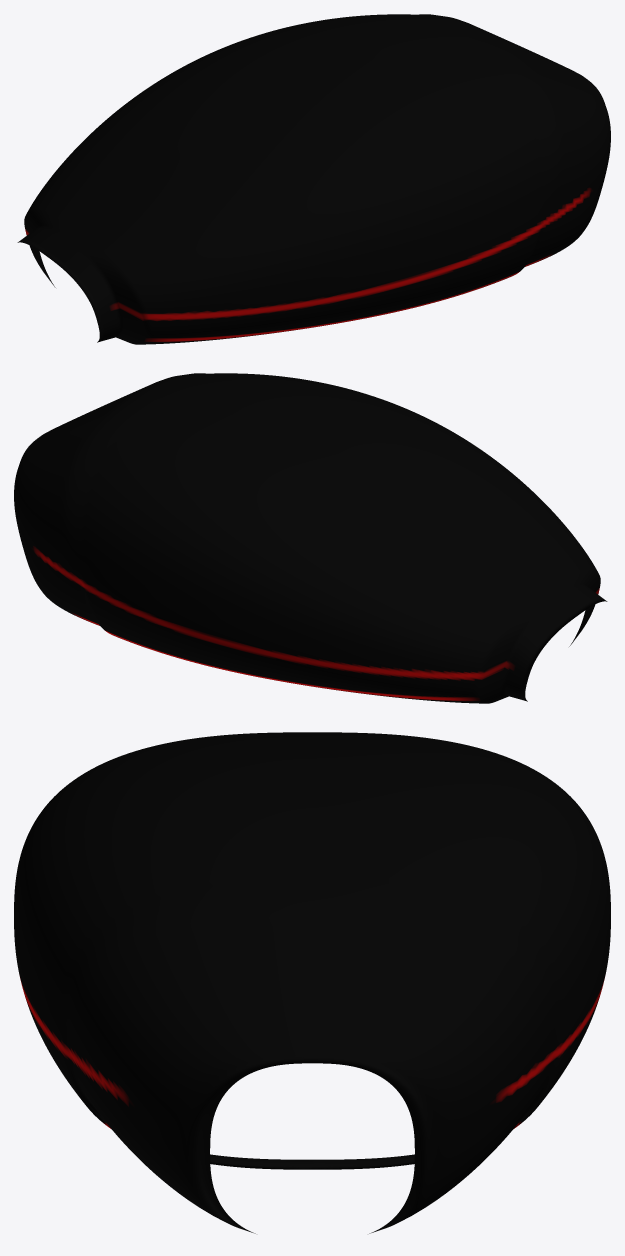
The model's file is tank.glb.
3 renders of one model, top to bottom at view 1: azimuth 30°, elevation 25°; view 2: azimuth 150°, elevation 25°; view 3: azimuth 270°, elevation 25°, orthographic. The views are drawn at different scales.
Parts seen in each view (by area): view 1: tank; view 2: tank; view 3: tank.
Part boxes in pixels (bbox=[...]): tank: bbox=[17, 14, 610, 344]; tank: bbox=[14, 373, 607, 703]; tank: bbox=[14, 732, 610, 1233].
Bounding box in the file's own units: 0.5358 × 0.2067 × 0.35.
